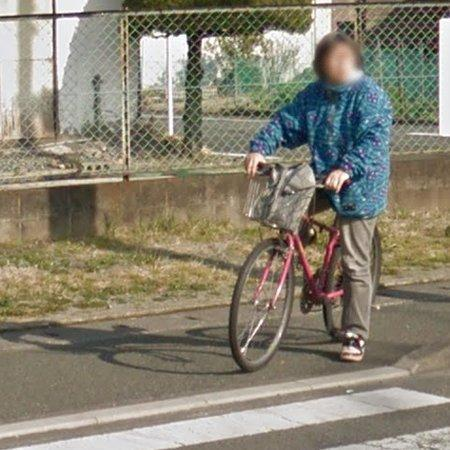bicycles: (229, 217, 345, 373)
